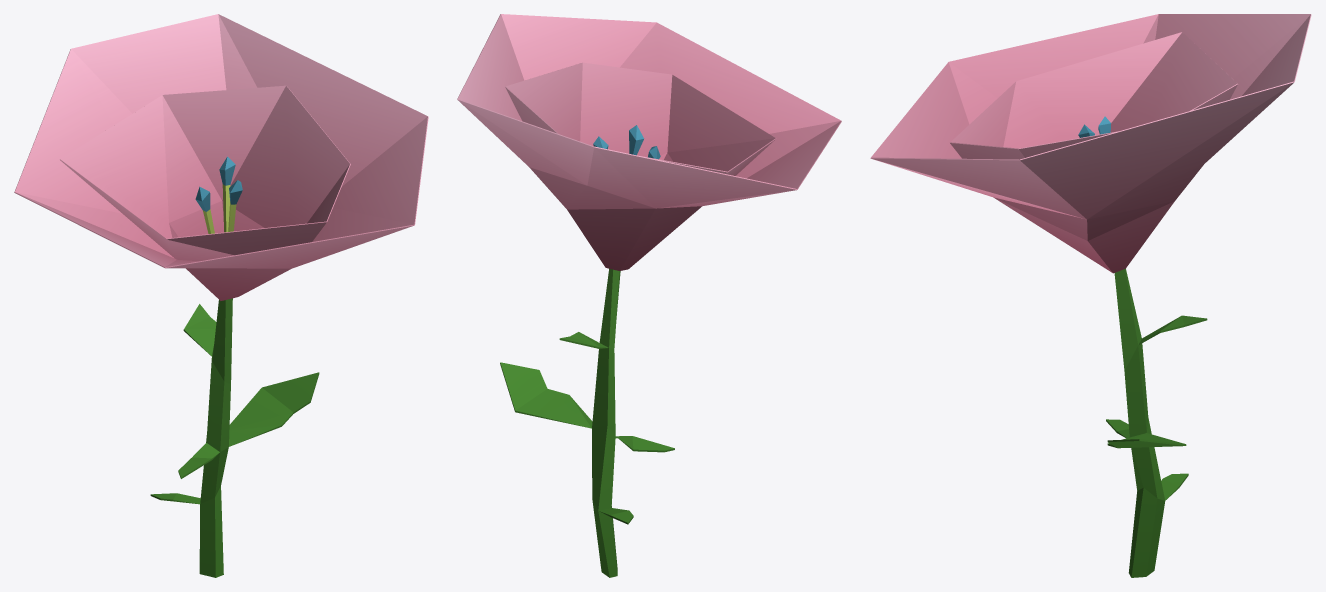
File: plant_flower_rose.fbx
3 views of the same model, side by side, from view 1: azimuth 30°, elevation 25°; view 2: azimuth 150°, elevation 25°; view 3: azimuth 270°, elevation 25° (orthographic). The views are drawn at different scales.
Visible parts, largest first — view 1: plant_flower_rose; view 2: plant_flower_rose; view 3: plant_flower_rose.
Boxes of the visible parts, x1,y1,x2,y2 form: plant_flower_rose: [14, 14, 428, 577]; plant_flower_rose: [457, 14, 841, 577]; plant_flower_rose: [870, 14, 1311, 577].
Bounding box in the file's own units: 0.6 × 0.8 × 0.6.
Materials: 1 (1 with a texture image).
